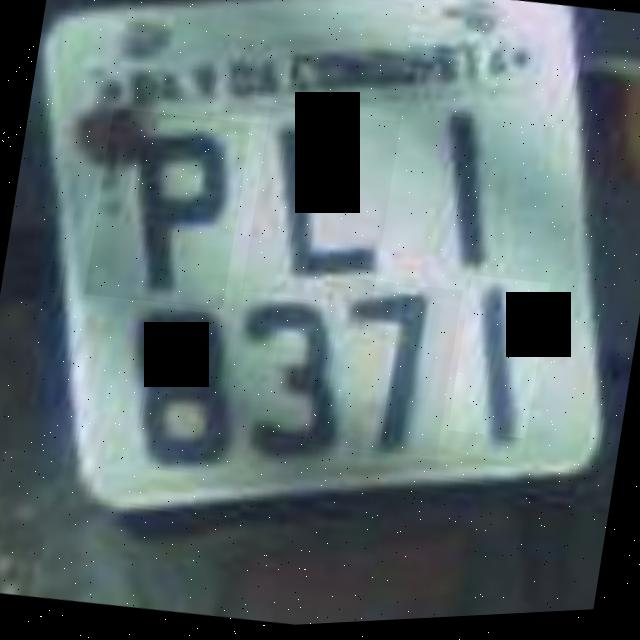1: (448, 278, 552, 448)
3: (191, 268, 386, 488)
7: (306, 275, 463, 468)
8: (82, 283, 283, 509)
J: (242, 105, 401, 315)
P: (84, 104, 252, 318)
